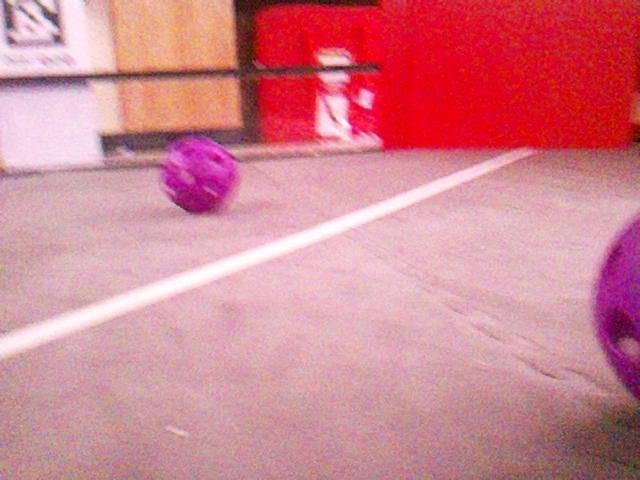Purple: (593, 209, 640, 405), (157, 135, 240, 214)
